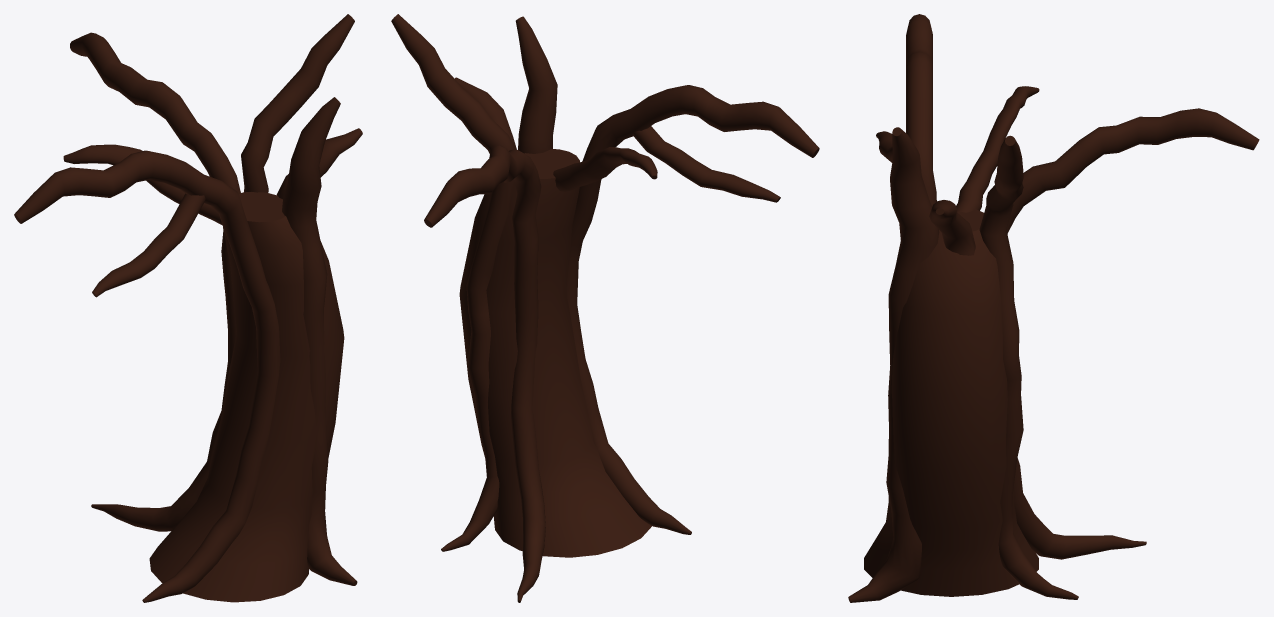
Rendered from OA_Tree.FBX.
3 renders of one model, left to right at view 1: azimuth 30°, elevation 25°; view 2: azimuth 150°, elevation 25°; view 3: azimuth 270°, elevation 25°, orthographic.
Parts seen in each view (by area): view 1: Trunk; view 2: Trunk; view 3: Trunk.
Boxes of the visible parts, x1,y1,x2,y2 form: Trunk: (14,14,362,602); Trunk: (391,14,819,602); Trunk: (848,14,1259,602).
Bounding box in the file's own units: 62.1 × 77.07 × 56.91.
